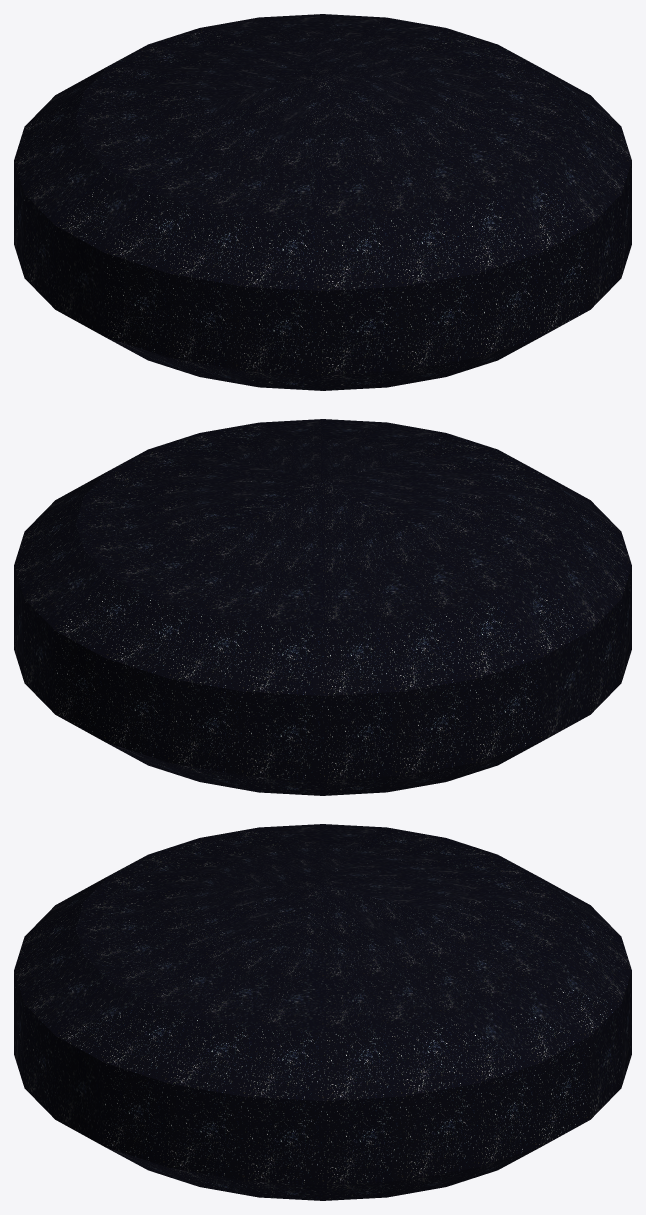
3 renders of one model, top to bottom at view 1: azimuth 30°, elevation 25°; view 2: azimuth 150°, elevation 25°; view 3: azimuth 270°, elevation 25°, orthographic.
Visible parts, largest first — view 1: Snowy_Drive__Model_2_-SKP--sky_box; view 2: Snowy_Drive__Model_2_-SKP--sky_box; view 3: Snowy_Drive__Model_2_-SKP--sky_box.
Boxes of the visible parts, box(x1,y1,x2,y2) form: Snowy_Drive__Model_2_-SKP--sky_box: box(14, 14, 631, 390); Snowy_Drive__Model_2_-SKP--sky_box: box(14, 419, 631, 795); Snowy_Drive__Model_2_-SKP--sky_box: box(14, 824, 631, 1200).
Size of the model in its own units: 270000 by 121500 by 270000.
Materials: 37 (37 with a texture image).
